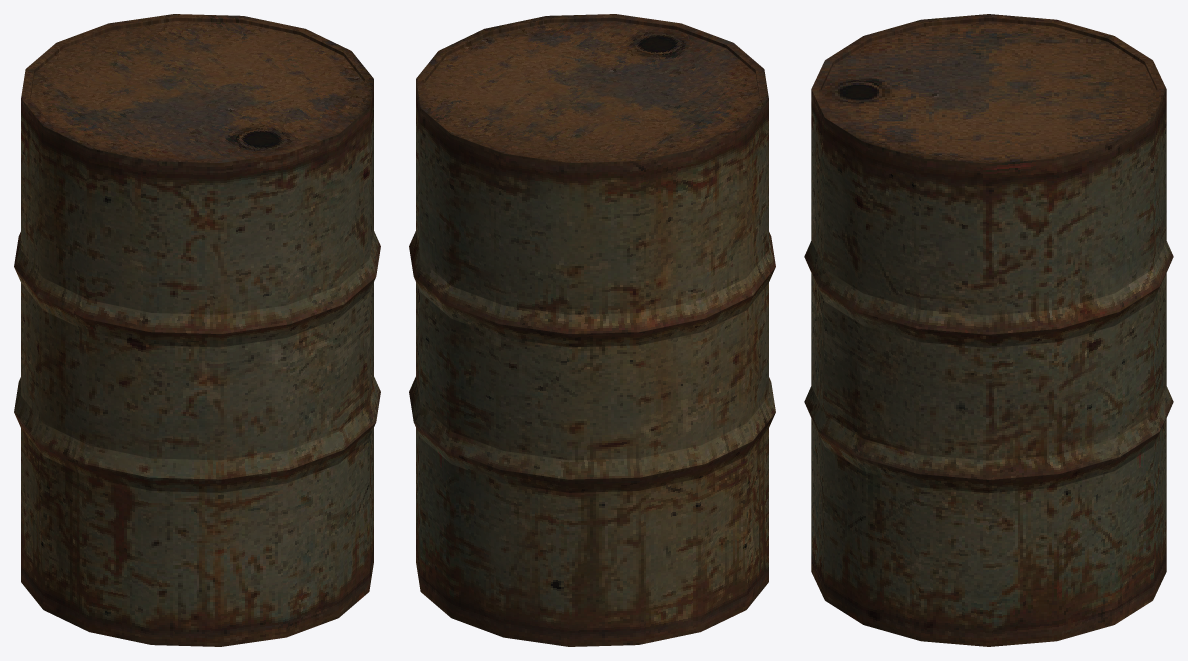
File: metal_barrel_mp_2.glb
The picture shows the model from 3 angles, left to right: view 1: azimuth 30°, elevation 25°; view 2: azimuth 150°, elevation 25°; view 3: azimuth 270°, elevation 25°; orthographic projection.
Parts seen in each view (by area): view 1: metal_barrel_mp_2; view 2: metal_barrel_mp_2; view 3: metal_barrel_mp_2.
Boxes of the visible parts, x1,y1,x2,y2 form: metal_barrel_mp_2: [14, 14, 380, 646]; metal_barrel_mp_2: [409, 14, 775, 646]; metal_barrel_mp_2: [804, 14, 1173, 646].
Bounding box in the file's own units: 0.7488 × 1.08 × 0.7488.
Materials: 1 (1 with a texture image).
